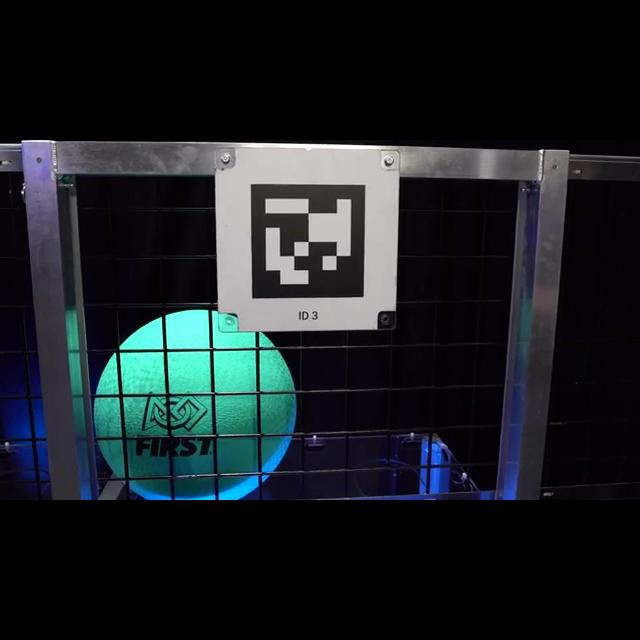ALGAE: (92, 306, 298, 498)
